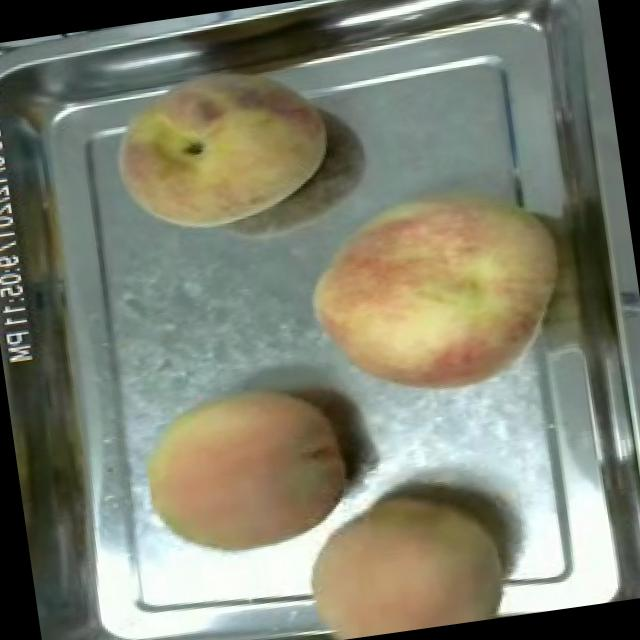Fruit: (291, 164, 579, 418), (96, 43, 348, 249), (122, 366, 369, 572), (283, 468, 522, 640)
